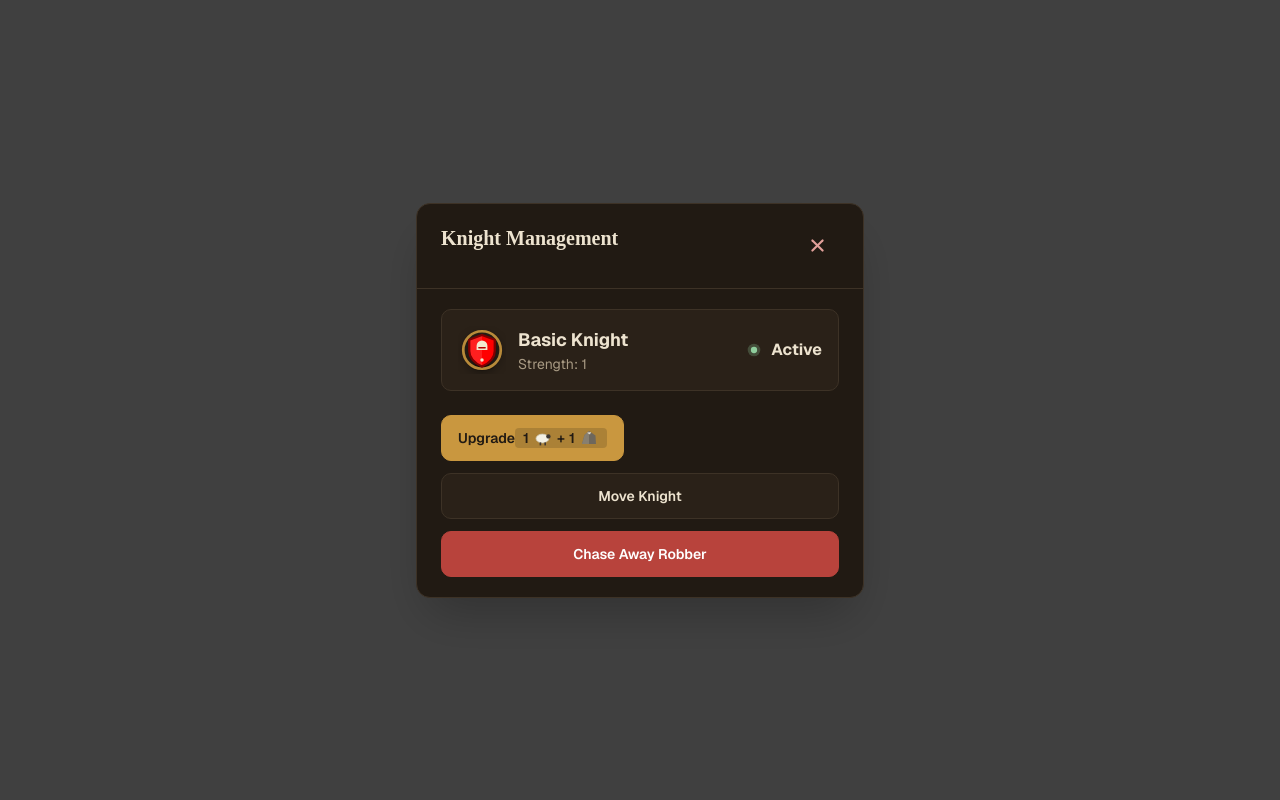
Test case: management dialog error handling › announces a chase-away error message
The image size is (1280, 800).
Click the button "Chase Away Robber" at point(640, 554), box [441,530,839,576]
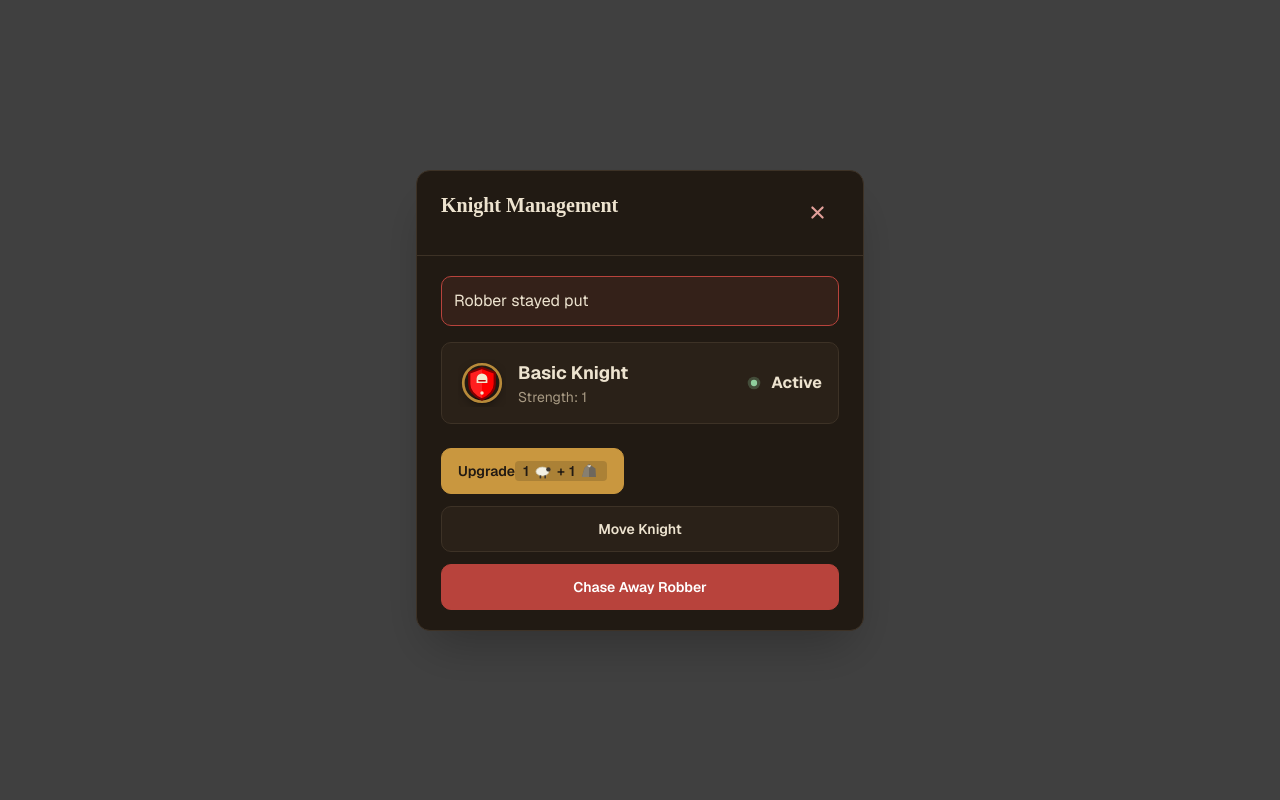
Now the message reads "Robber stayed put", box [454,290,588,310]
